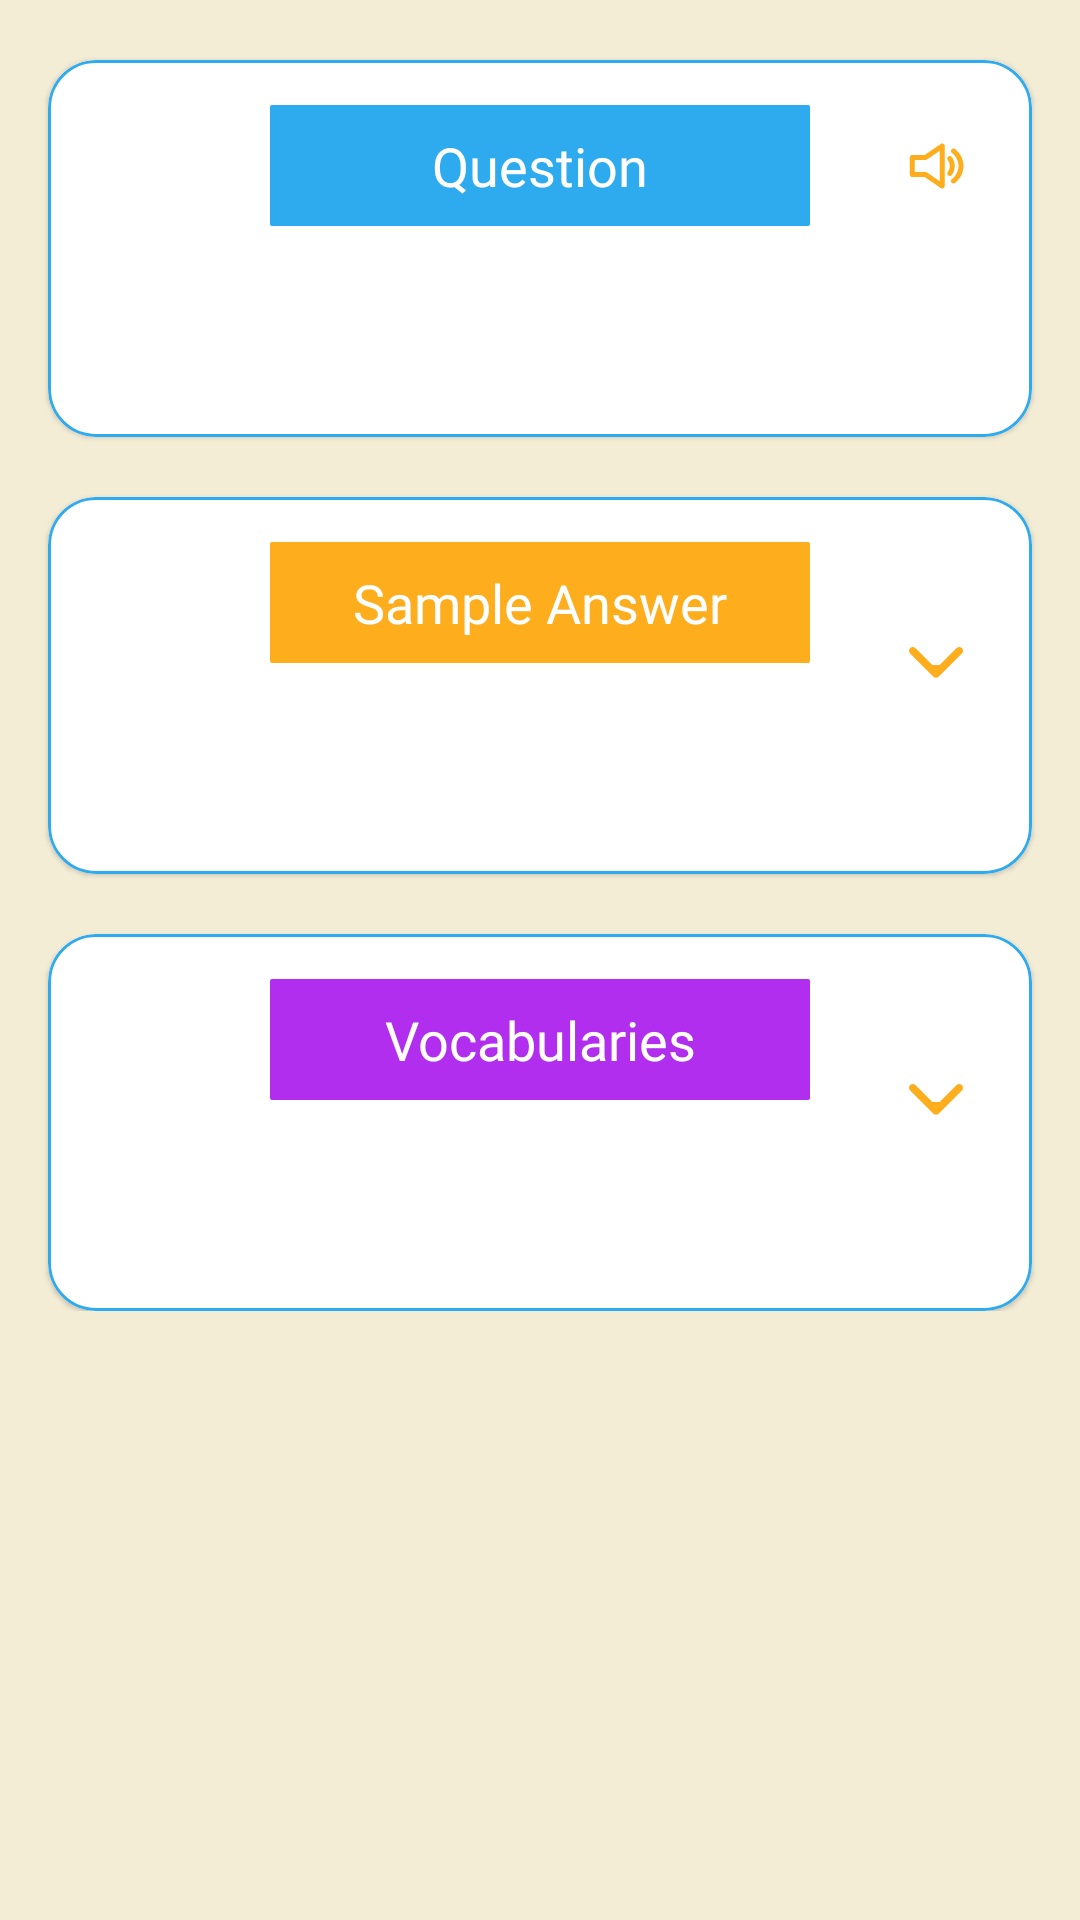

Screen size 1080x1920. Icon name, then its center in pixels as [x,y]:
Button to Speak Text: [936,166]
image button arrow down: [936,662], [936,1099]
